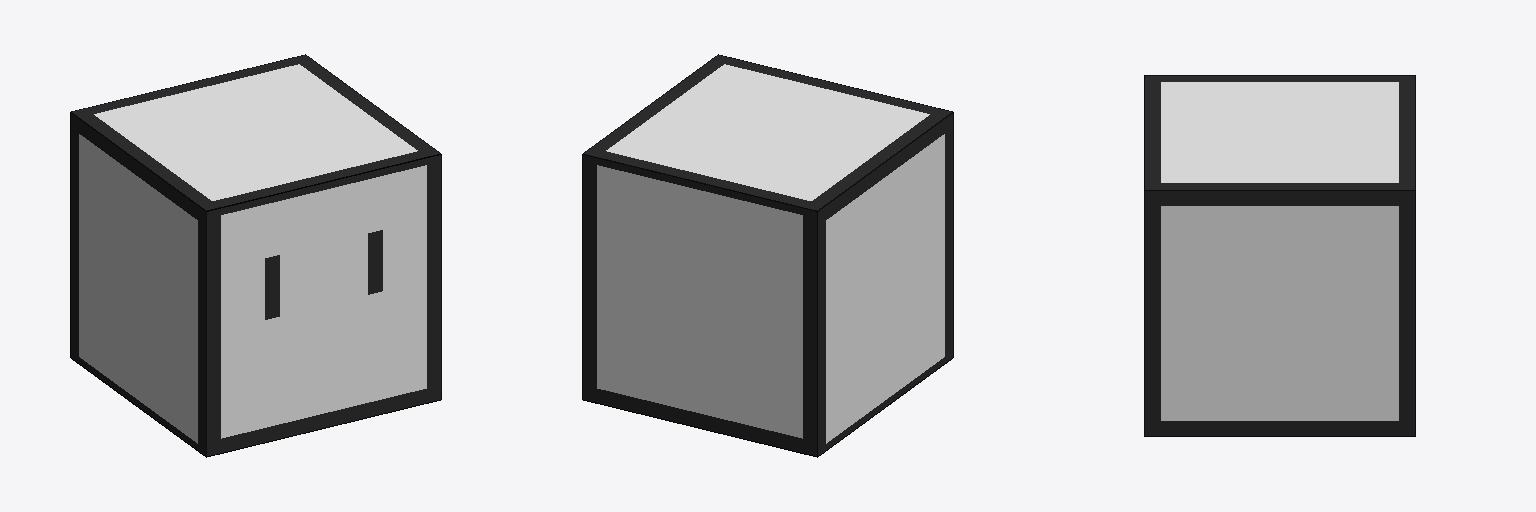
The picture shows the model from 3 angles: view 1: azimuth 30°, elevation 25°; view 2: azimuth 150°, elevation 25°; view 3: azimuth 270°, elevation 25°; orthographic projection.
Visible parts, largest first — view 1: 立方体; view 2: 立方体; view 3: 立方体.
Part boxes in pixels (x1,y1,x2,y2): 立方体: (70,54,441,457); 立方体: (582,54,953,457); 立方体: (1144,75,1415,436).
Bounding box in the file's own units: 1 × 1 × 1.
Materials: 1 (1 with a texture image).